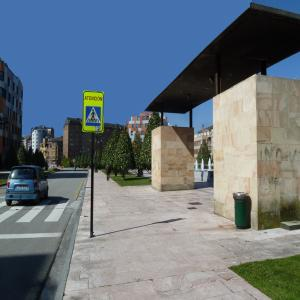Vehicle-registration-plate: (18, 187, 27, 190)
